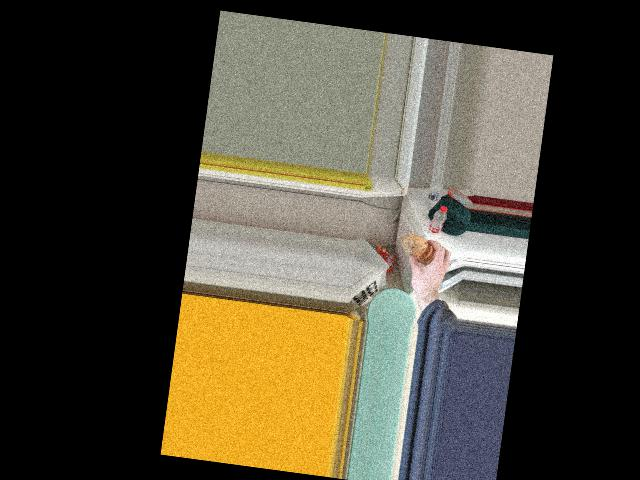sweet_potato: (404, 232, 438, 266)
